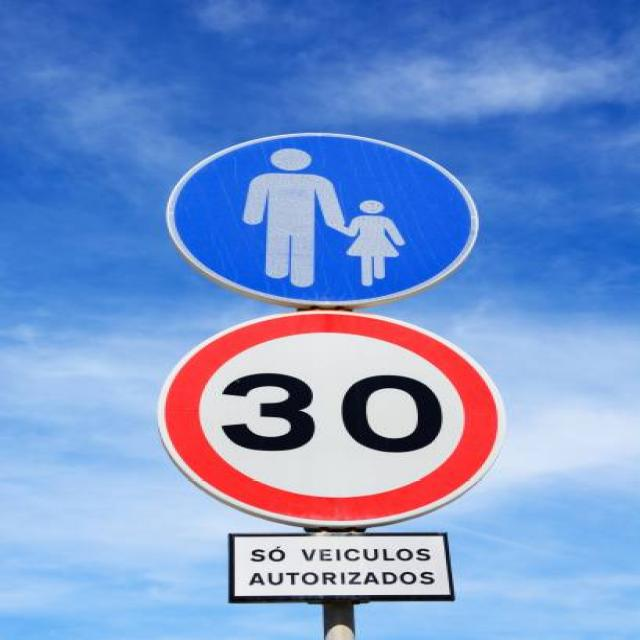speed_limit_30: (153, 302, 519, 528)
